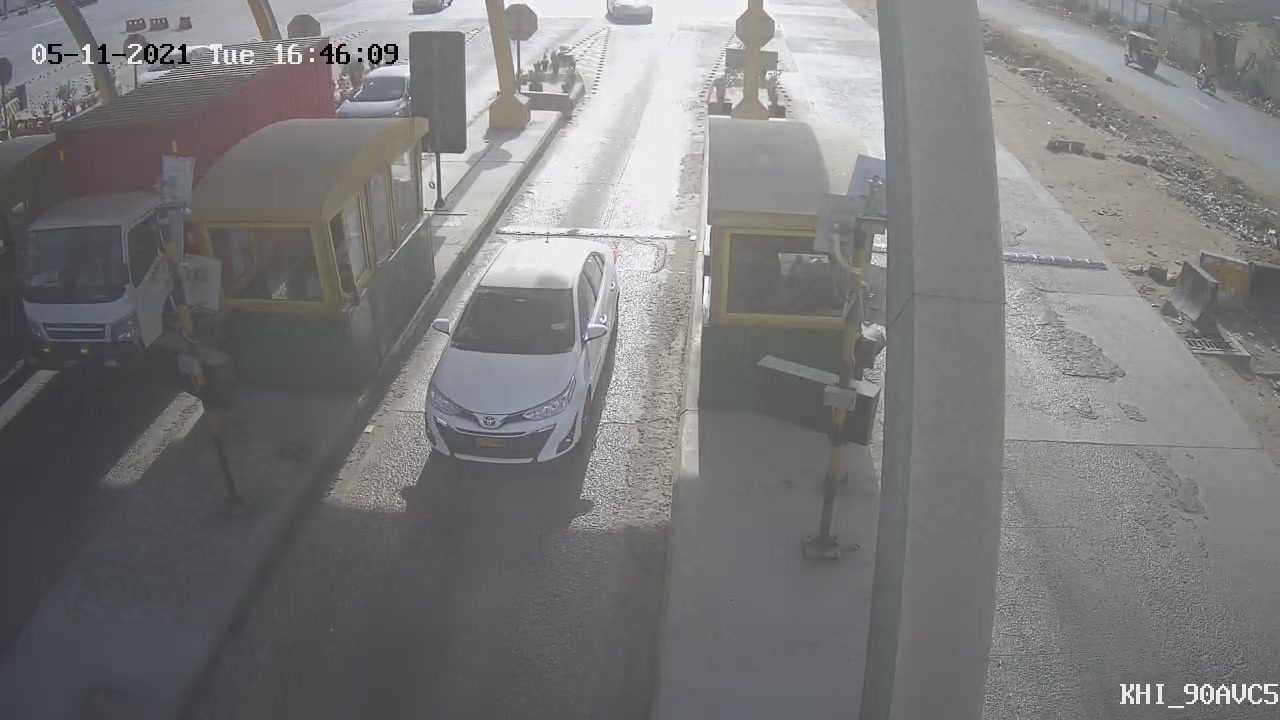F1: (401, 211, 637, 490)
